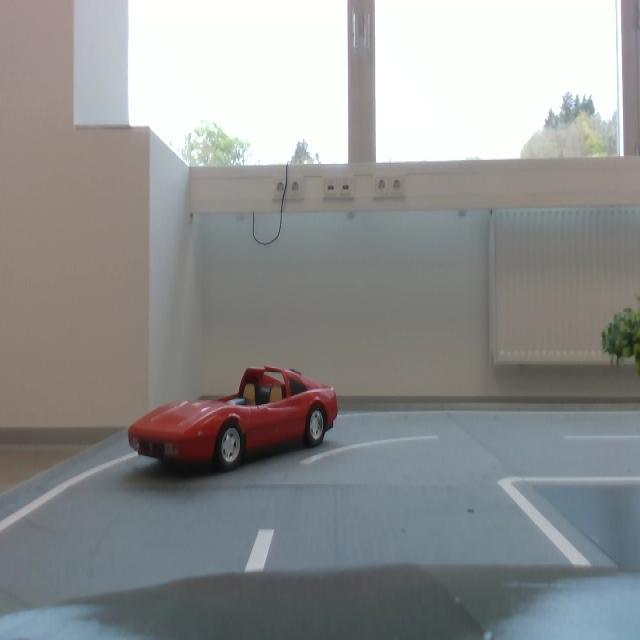car: (128, 358, 343, 477)
potted plant: (602, 288, 640, 377)
